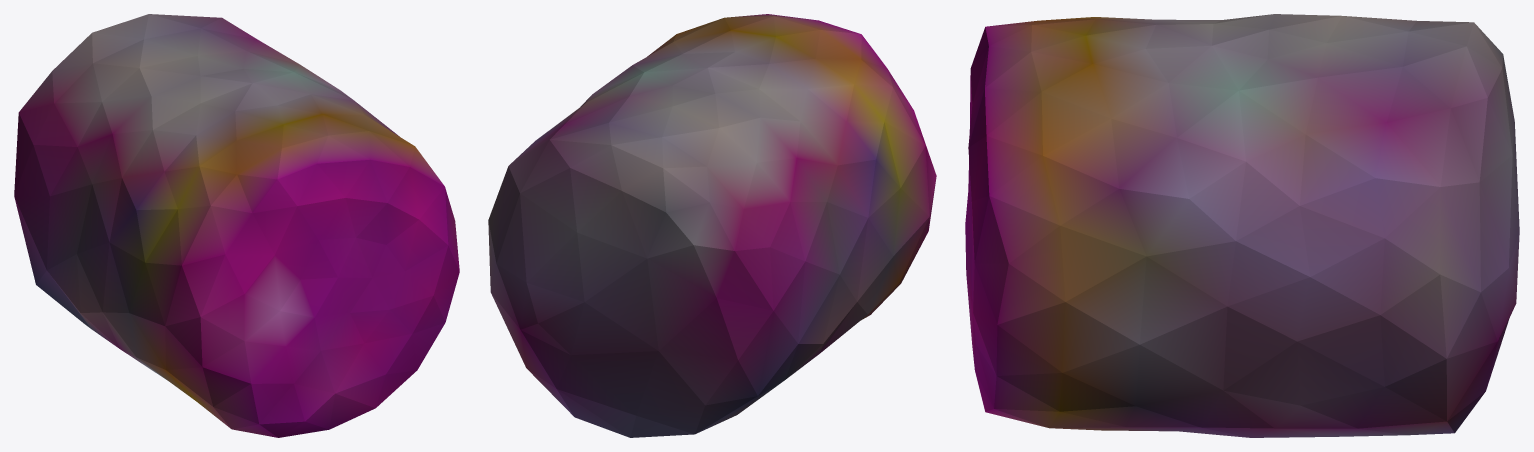
File: roblog-vanish-detergent.dae
3 renders of one model, left to right at view 1: azimuth 30°, elevation 25°; view 2: azimuth 150°, elevation 25°; view 3: azimuth 270°, elevation 25°, orthographic. The views are drawn at different scales.
Parts seen in each view (by area): view 1: node; view 2: node; view 3: node.
Boxes of the visible parts, x1,y1,x2,y2 form: node: (14,14,459,437); node: (488,14,936,437); node: (965,14,1519,437).
Size of the model in its own units: 0.1345 by 0.133 by 0.1764.
